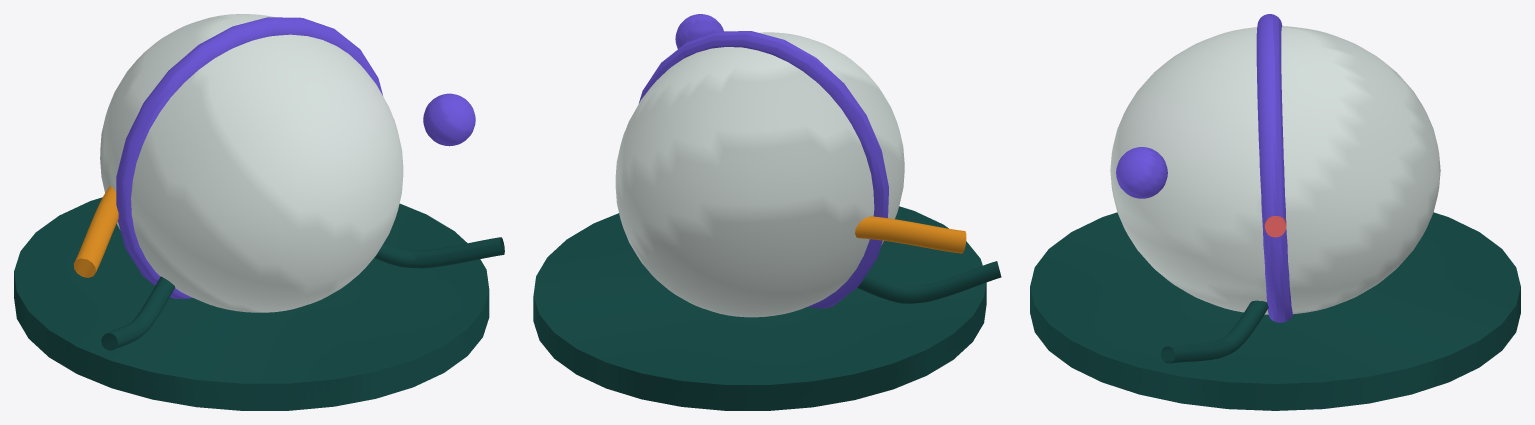
File: 0416_微生物图鉴_双歧杆菌.glb
The picture shows the model from 3 angles, left to right: view 1: azimuth 30°, elevation 25°; view 2: azimuth 150°, elevation 25°; view 3: azimuth 270°, elevation 25°; orthographic projection. The views are drawn at different scales.
Visible parts, largest first — view 1: card_0416; view 2: card_0416; view 3: card_0416.
Boxes of the visible parts, x1,y1,x2,y2 form: card_0416: (14, 14, 504, 410); card_0416: (533, 14, 1001, 410); card_0416: (1030, 14, 1520, 410).
Size of the model in its own units: 1.47 by 1 by 1.56.
